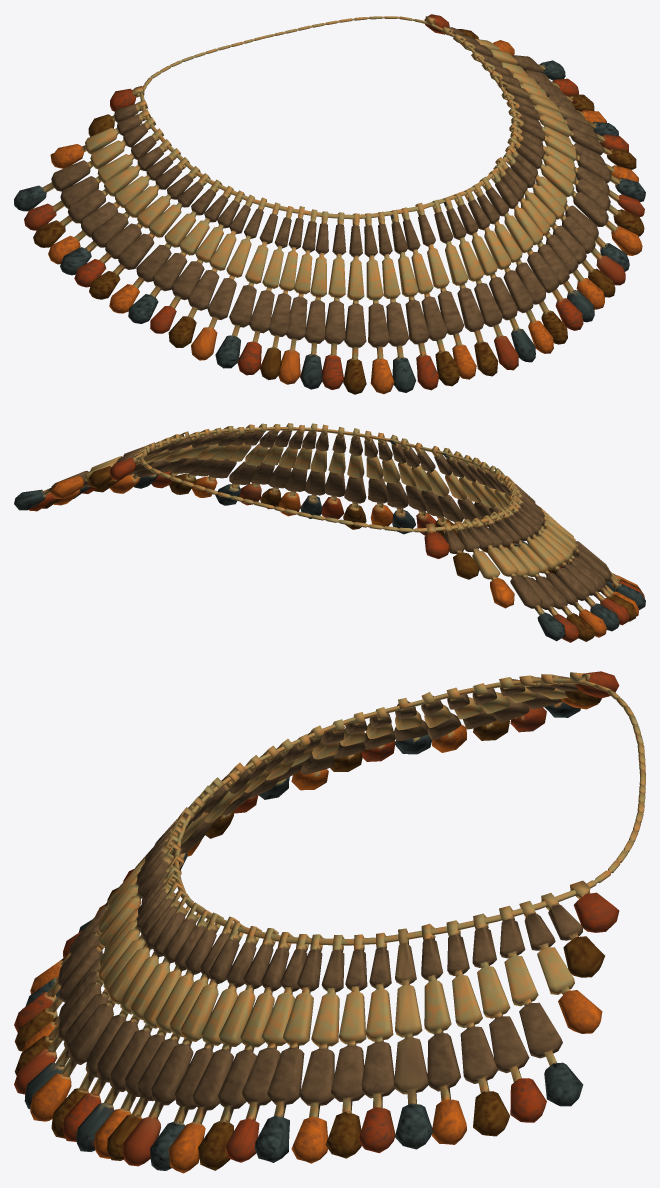
The model's file is asset.glb.
3 views of the same model, one above another, from view 1: azimuth 30°, elevation 25°; view 2: azimuth 150°, elevation 25°; view 3: azimuth 270°, elevation 25° (orthographic). The views are drawn at different scales.
Parts seen in each view (by area): view 1: Object_2; view 2: Object_2; view 3: Object_2.
Part boxes in pixels (box(x1,y1,x2,y2)): Object_2: box(14, 14, 645, 394); Object_2: box(14, 423, 645, 642); Object_2: box(14, 671, 645, 1173).
Size of the model in its own units: 4.69 by 1.57 by 3.07.
1 material, 1 textured.
